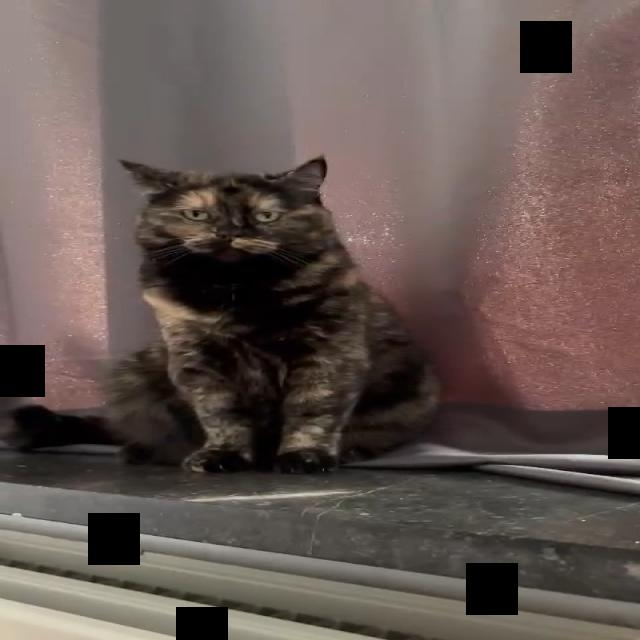authorized: (6, 153, 446, 474)
